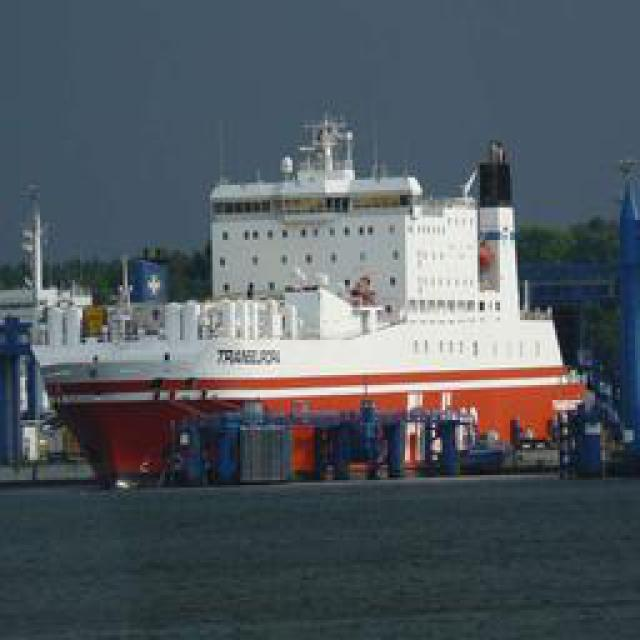Ship: (42, 111, 580, 481)
